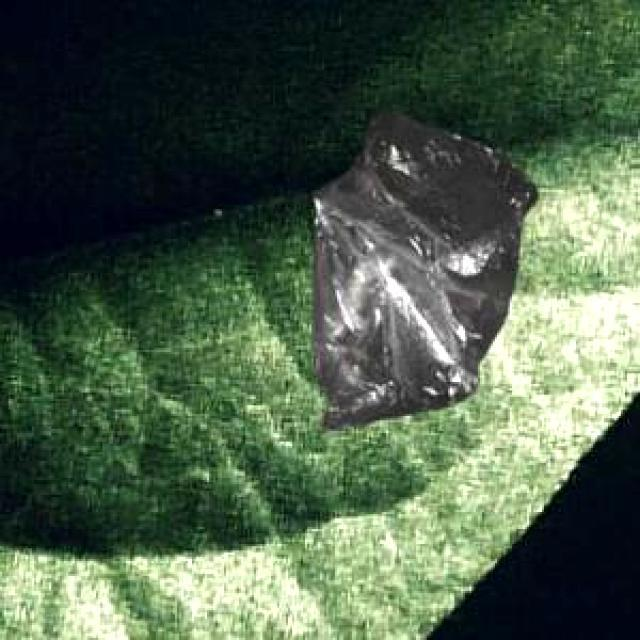Plastic_Bag: (308, 106, 534, 426)
